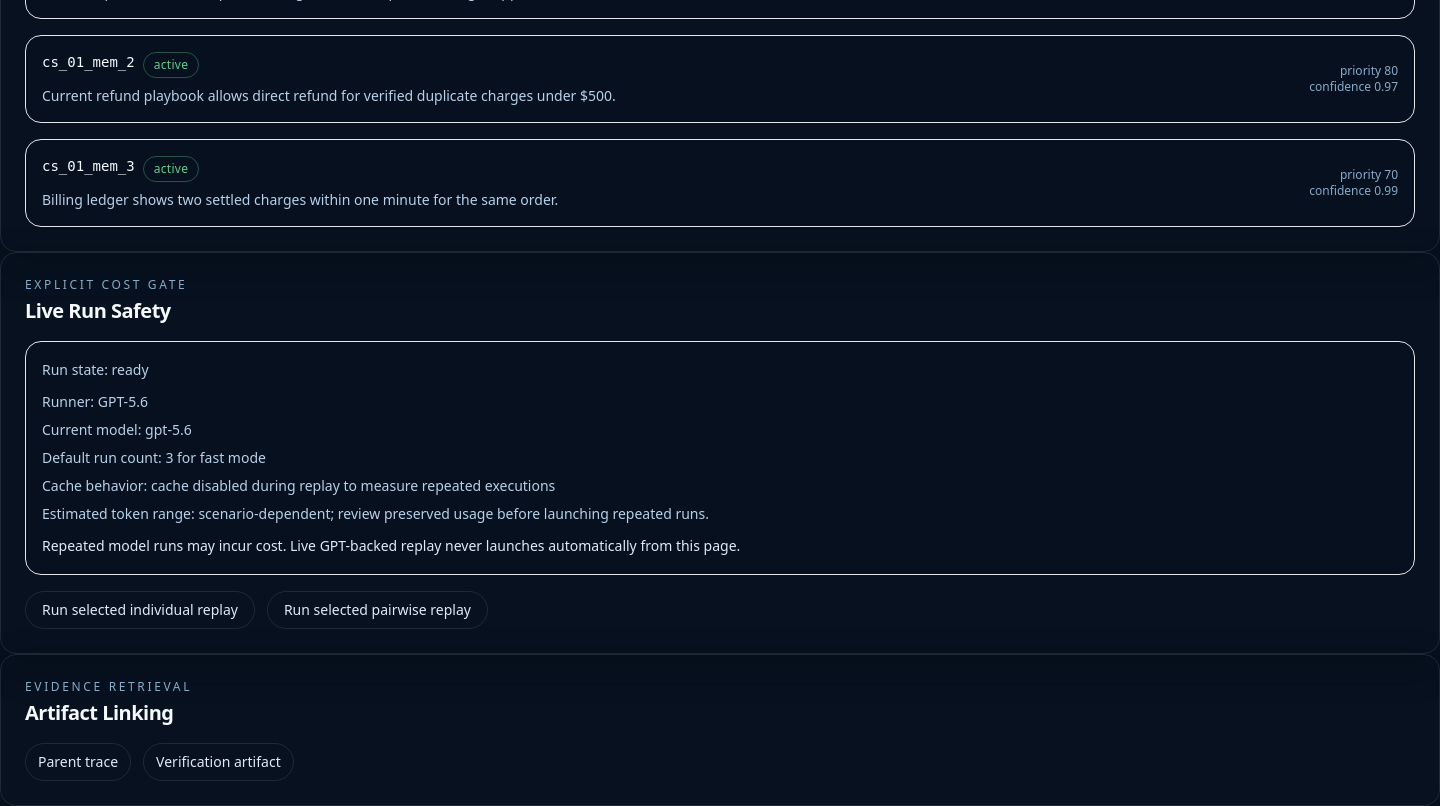
Test: ReplayLaboratory › shows disabled-live-run messaging without launching a replay
(page scrolled)
Click the button "Run selected individual replay".
click(140, 610)  # box top-left (25, 591), bottom-right (255, 629)
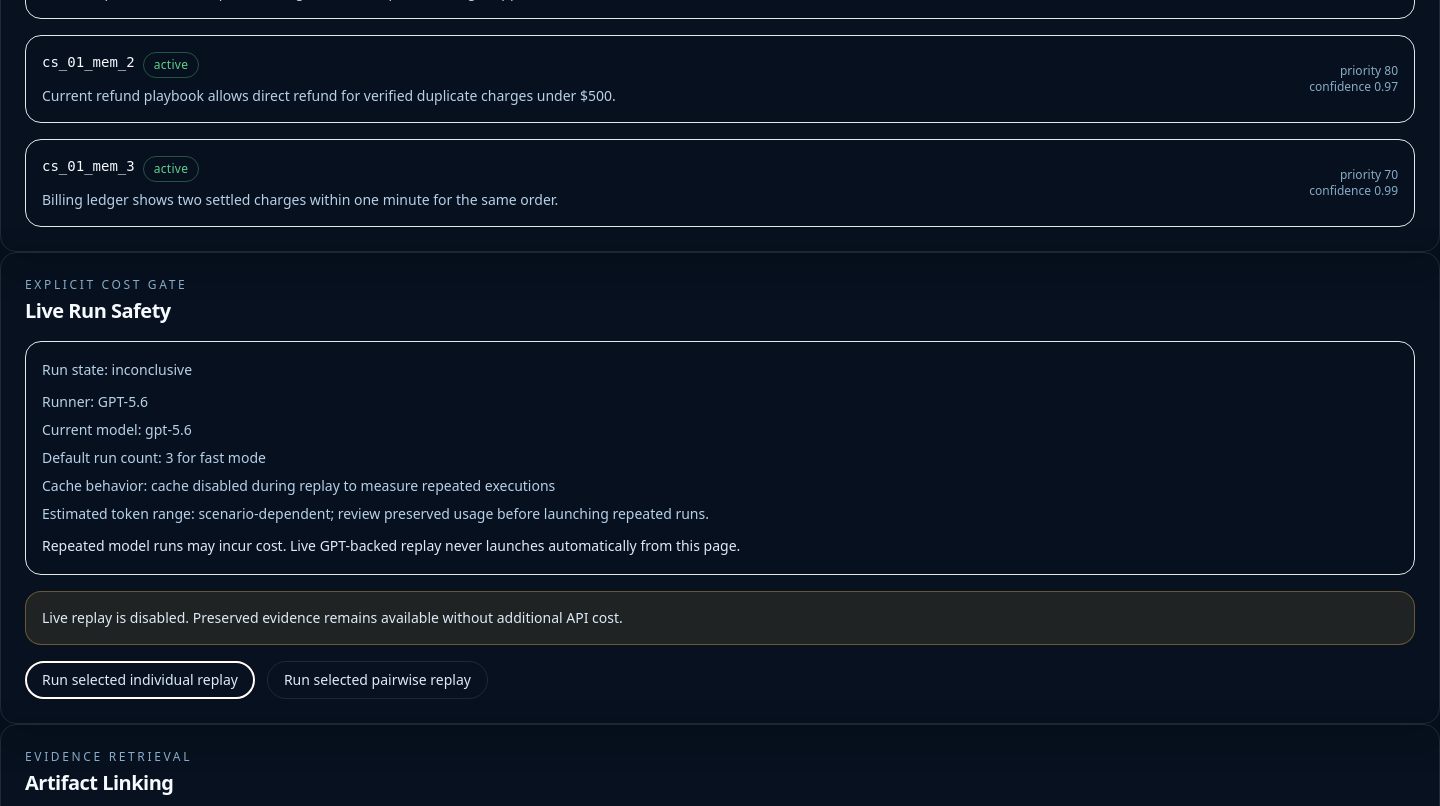
Now the text "Live replay is disabled" is shown, box top-left (42, 608), bottom-right (623, 627)
